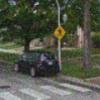cars: (18, 52, 59, 77)
